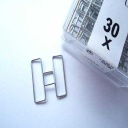Metal: (22, 46, 77, 111)
